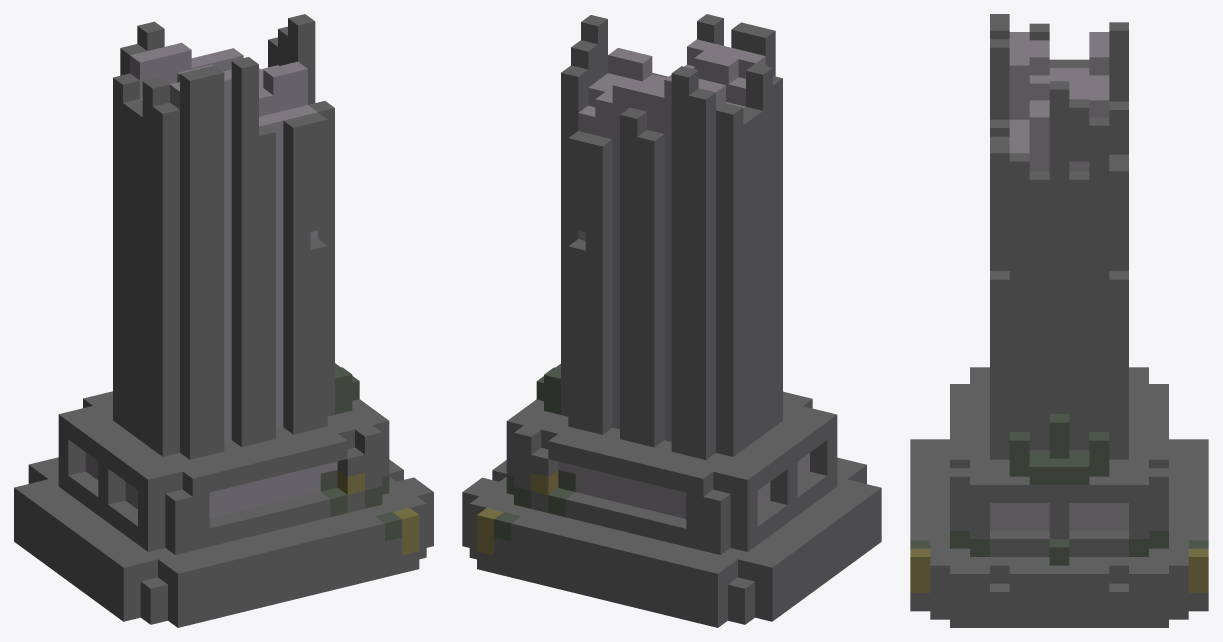
Rendered from HalfColumn.obj.
3 renders of one model, left to right at view 1: azimuth 30°, elevation 25°; view 2: azimuth 150°, elevation 25°; view 3: azimuth 270°, elevation 25°, orthographic.
Parts seen in each view (by area): view 1: Columns; view 2: Columns; view 3: Columns.
Part boxes in pixels (<box>): Columns: <box>14,14,433,627</box>; Columns: <box>462,14,881,627</box>; Columns: <box>910,14,1208,627</box>.
Size of the model in its own units: 1.8 by 2.8 by 1.5.
Materials: 1 (1 with a texture image).
